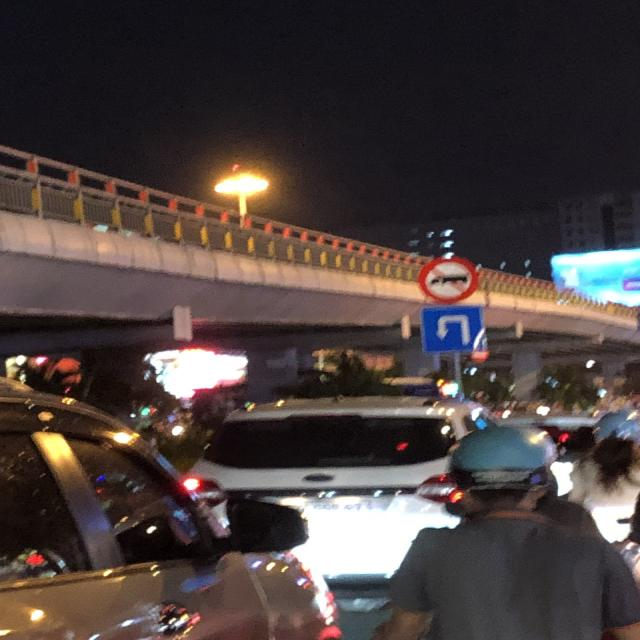Bien bao cam xe so-mi ro-mooc: (412, 251, 487, 304)
